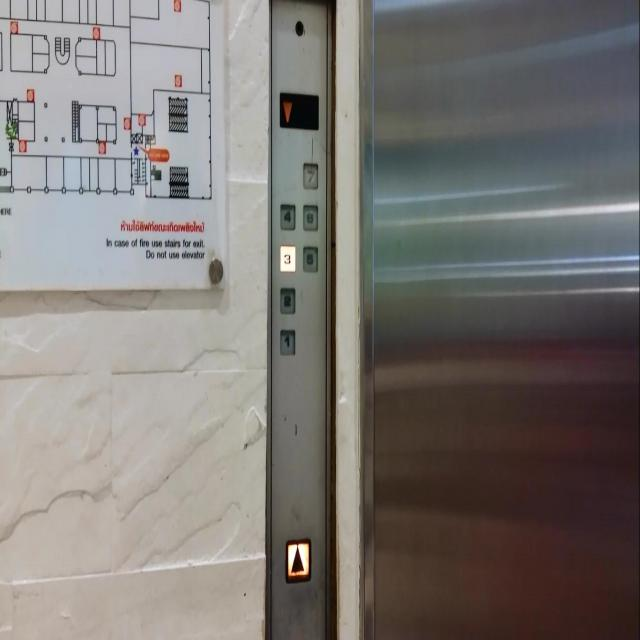1: (278, 326, 296, 356)
2: (278, 284, 296, 315)
3: (279, 242, 296, 272)
4: (279, 201, 296, 231)
5: (302, 243, 318, 274)
6: (301, 200, 319, 232)
7: (302, 160, 319, 191)
led: (279, 91, 320, 130)
up: (285, 536, 311, 582)
